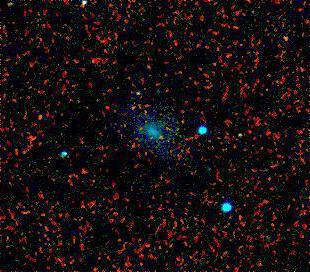star: (127, 79, 157, 109)
